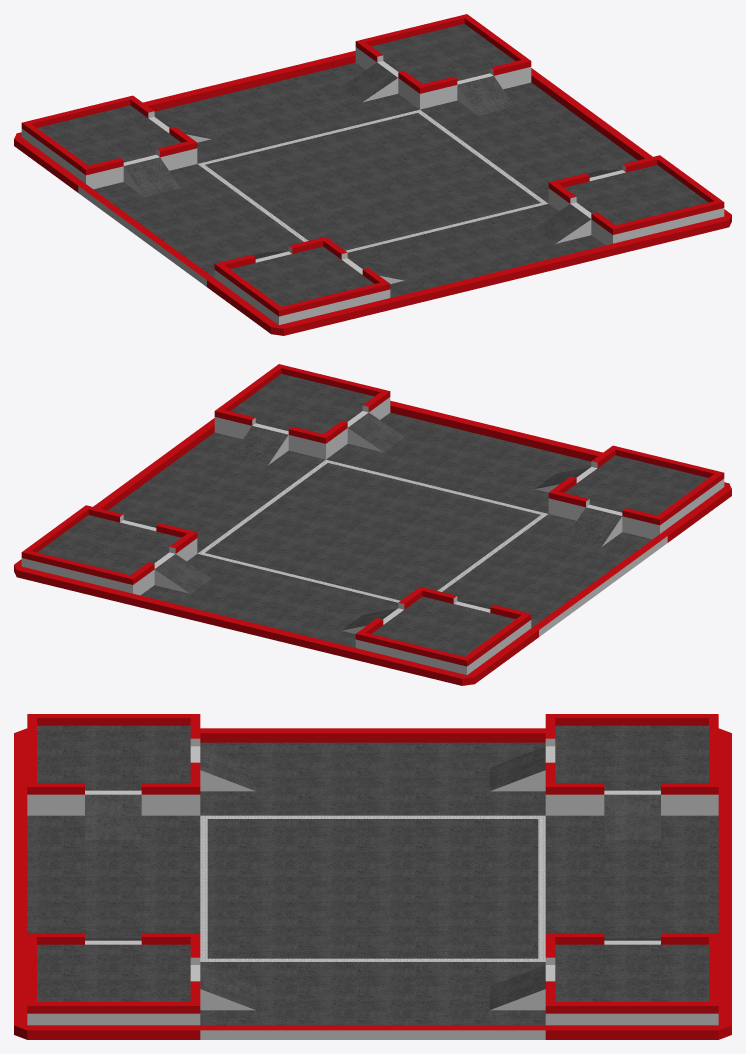
File: parking.fbx
3 renders of one model, top to bottom at view 1: azimuth 30°, elevation 25°; view 2: azimuth 150°, elevation 25°; view 3: azimuth 270°, elevation 25°, orthographic. The views are drawn at different scales.
Visible parts, largest first — view 1: Cube; view 2: Cube; view 3: Cube.
Boxes of the visible parts, x1,y1,x2,y2 form: Cube: (14,14,731,335); Cube: (14,364,731,685); Cube: (14,714,731,1039).
Bounding box in the file's own units: 2.07 × 0.0919 × 2.08.
